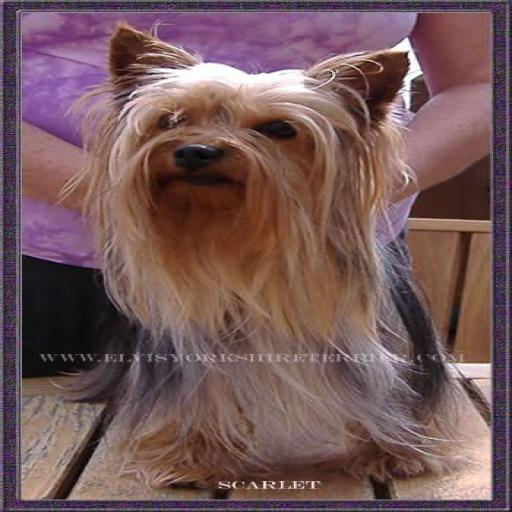dog_face: (94, 24, 417, 230)
